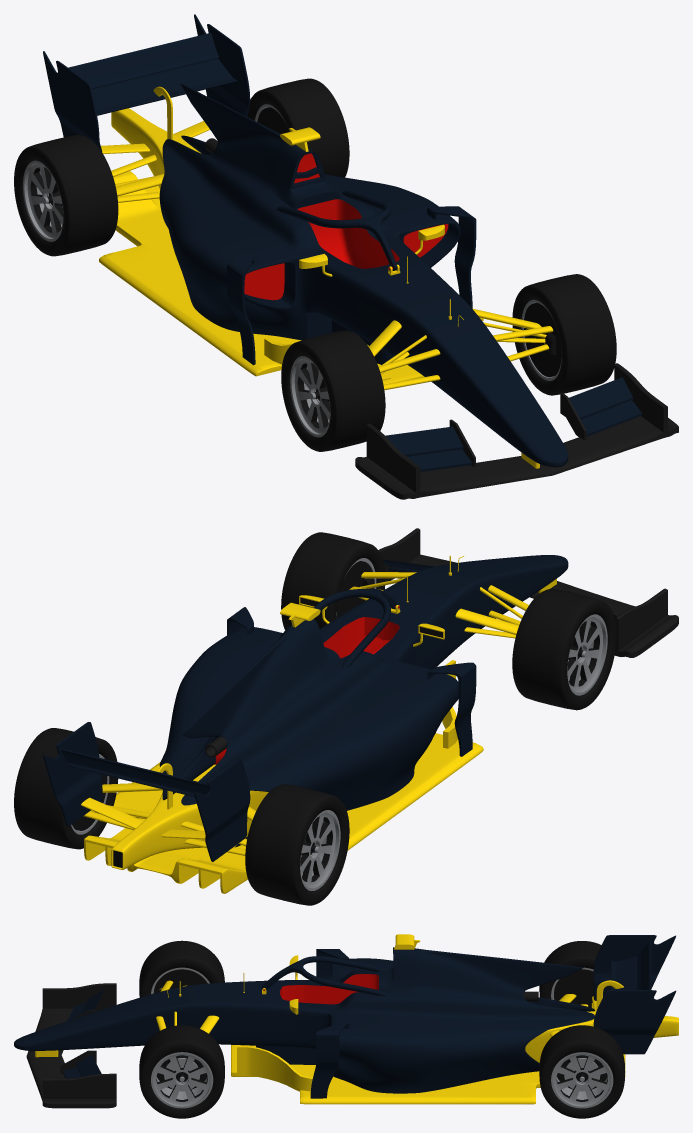
Rendered from Men_accessory_RedBull_5000.fbx.
The picture shows the model from 3 angles, top to bottom: view 1: azimuth 30°, elevation 25°; view 2: azimuth 150°, elevation 25°; view 3: azimuth 270°, elevation 25°; orthographic projection. The views are drawn at different scales.
Parts seen in each view (by area): view 1: _gltfNode_0, _gltfNode_3, _gltfNode_13, _gltfNode_16, _gltfNode_4, _gltfNode_2, _gltfNode_10, _gltfNode_1, _gltfNode_14, _gltfNode_17; view 2: _gltfNode_0, _gltfNode_3, _gltfNode_16, _gltfNode_13, _gltfNode_4, _gltfNode_17, _gltfNode_14, _gltfNode_2, _gltfNode_10; view 3: _gltfNode_0, _gltfNode_3, _gltfNode_13, _gltfNode_4, _gltfNode_16, _gltfNode_10, _gltfNode_14, _gltfNode_17, _gltfNode_2, _gltfNode_9.
Part boxes in pixels (box(x1,y1,x2,y2)): _gltfNode_0: box(43, 14, 641, 471); _gltfNode_3: box(99, 86, 553, 468); _gltfNode_13: box(281, 274, 616, 451); _gltfNode_16: box(14, 78, 349, 256); _gltfNode_4: box(355, 363, 678, 499); _gltfNode_2: box(298, 199, 399, 268); _gltfNode_10: box(47, 107, 561, 401); _gltfNode_1: box(244, 153, 448, 300); _gltfNode_14: box(290, 299, 561, 437); _gltfNode_17: box(23, 104, 284, 241); _gltfNode_0: box(43, 555, 616, 861); _gltfNode_3: box(81, 555, 556, 893); _gltfNode_16: box(14, 728, 349, 905); _gltfNode_13: box(281, 532, 616, 710); _gltfNode_4: box(378, 528, 678, 657); _gltfNode_17: box(71, 754, 340, 890); _gltfNode_14: box(336, 558, 607, 695); _gltfNode_2: box(323, 617, 399, 658); _gltfNode_10: box(72, 561, 583, 855); _gltfNode_0: box(14, 935, 676, 1098); _gltfNode_3: box(35, 934, 678, 1104); _gltfNode_13: box(139, 940, 224, 1118); _gltfNode_4: box(26, 983, 116, 1108); _gltfNode_16: box(539, 941, 625, 1118); _gltfNode_10: box(153, 969, 607, 1089); _gltfNode_14: box(151, 967, 213, 1108); _gltfNode_17: box(551, 967, 613, 1108); _gltfNode_2: box(280, 974, 378, 1004); _gltfNode_9: box(164, 1058, 600, 1091).
Bounding box in the file's own units: 170 × 99.25 × 463.
